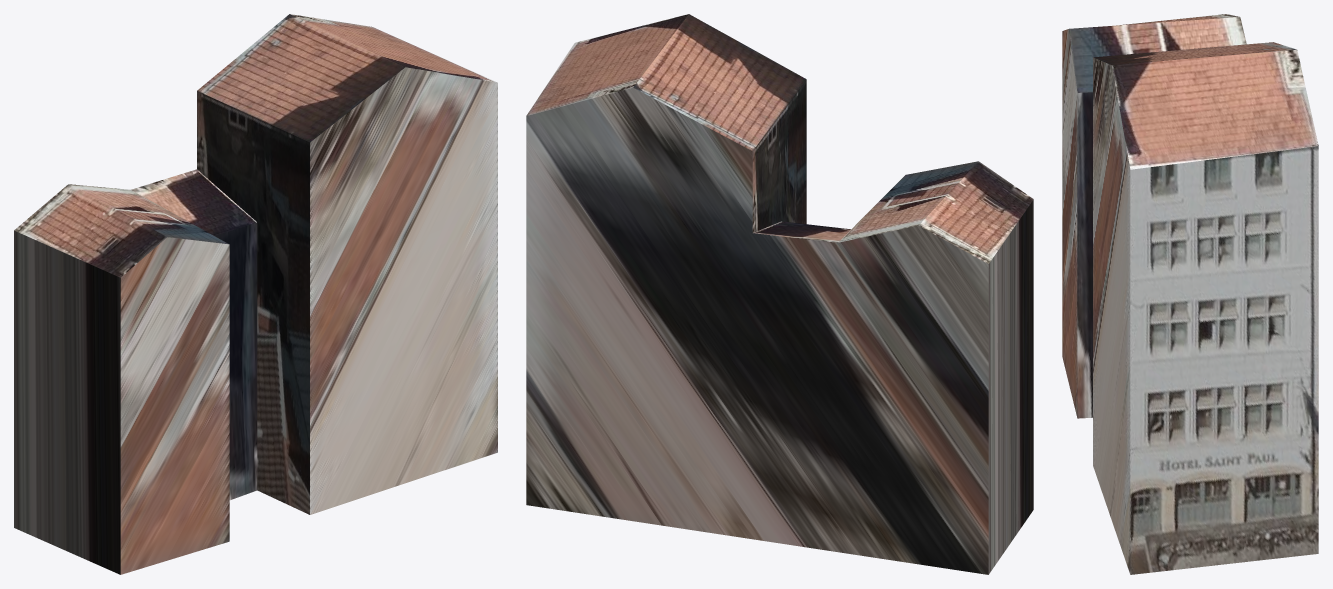
The picture shows the model from 3 angles, left to right: view 1: azimuth 30°, elevation 25°; view 2: azimuth 150°, elevation 25°; view 3: azimuth 270°, elevation 25°; orthographic projection. The views are drawn at different scales.
Visible parts, largest first — view 1: Z_UP; view 2: Z_UP; view 3: Z_UP.
Boxes of the visible parts, bbox=[...] form: Z_UP: bbox=[14, 14, 497, 574]; Z_UP: bbox=[526, 14, 1033, 574]; Z_UP: bbox=[1062, 14, 1318, 574].
Bounding box in the file's own units: 21.65 × 19.56 × 9.97.
Materials: 2 (1 with a texture image).
